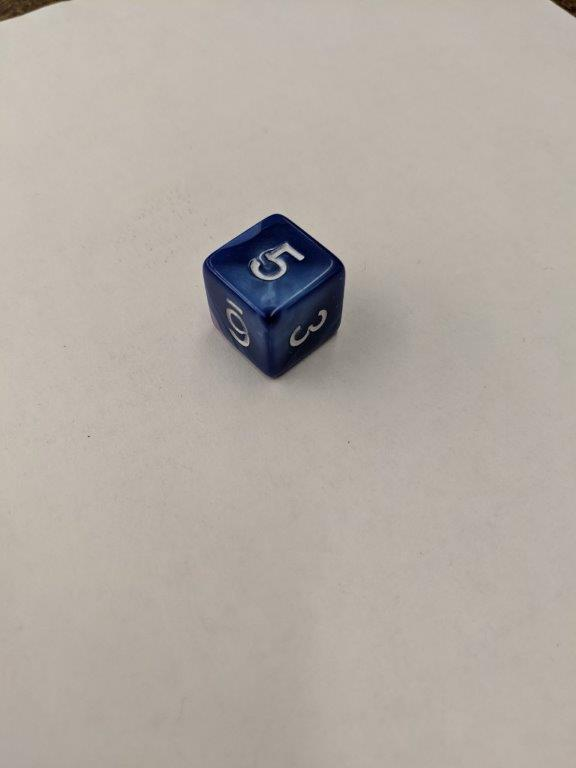d6-5: (204, 213, 347, 376)
